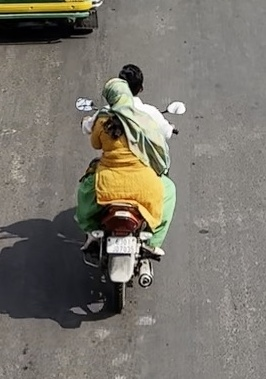BikeWithRider: (66, 62, 187, 321)
NoHelmet: (99, 76, 133, 113), (115, 65, 144, 96)
